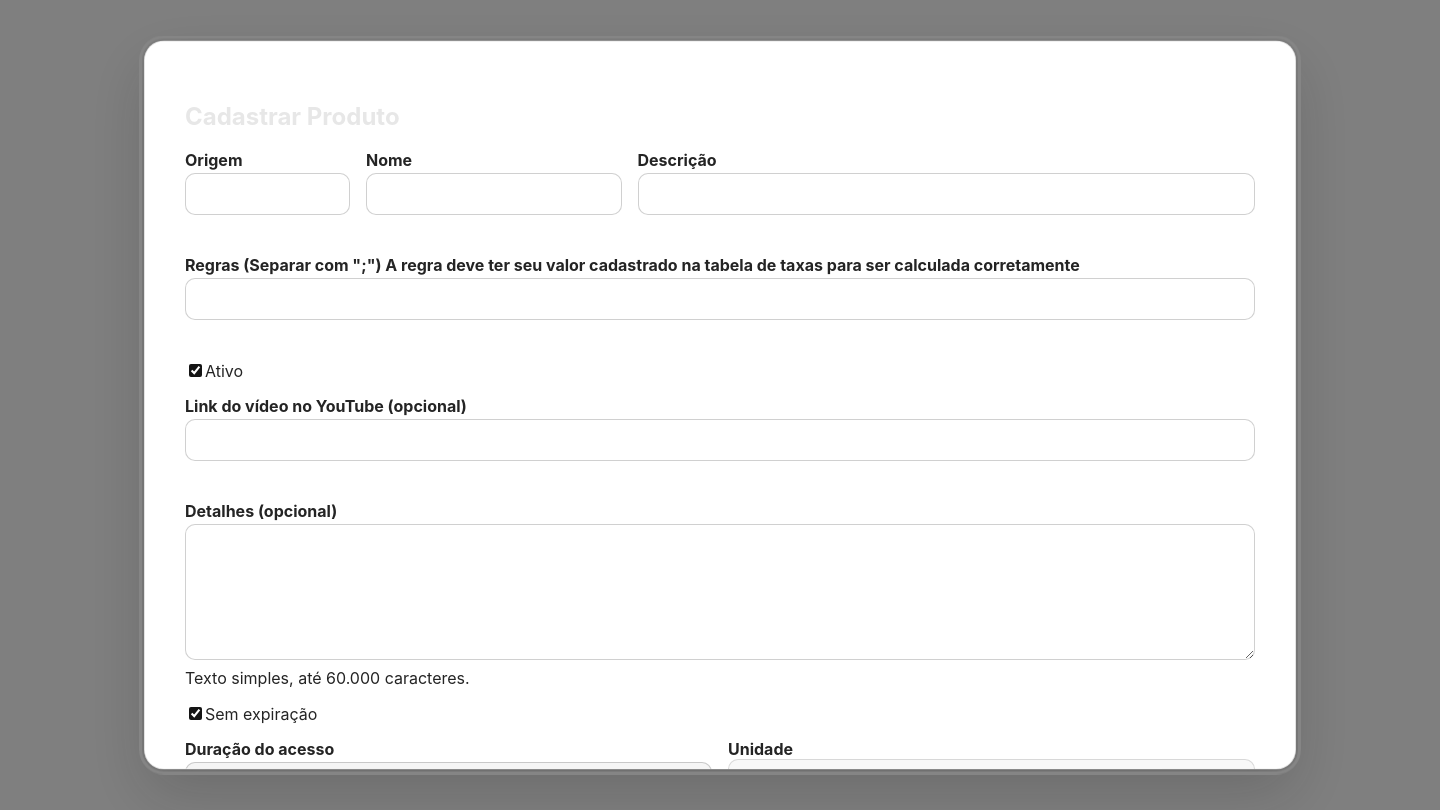
Test: requires a positive integer and duration unit when expiration is enabled
The image size is (1440, 810).
Step 1. Type "ORIGEM" into the field labelled "Origem" → (268, 193), box [185,172,350,214]
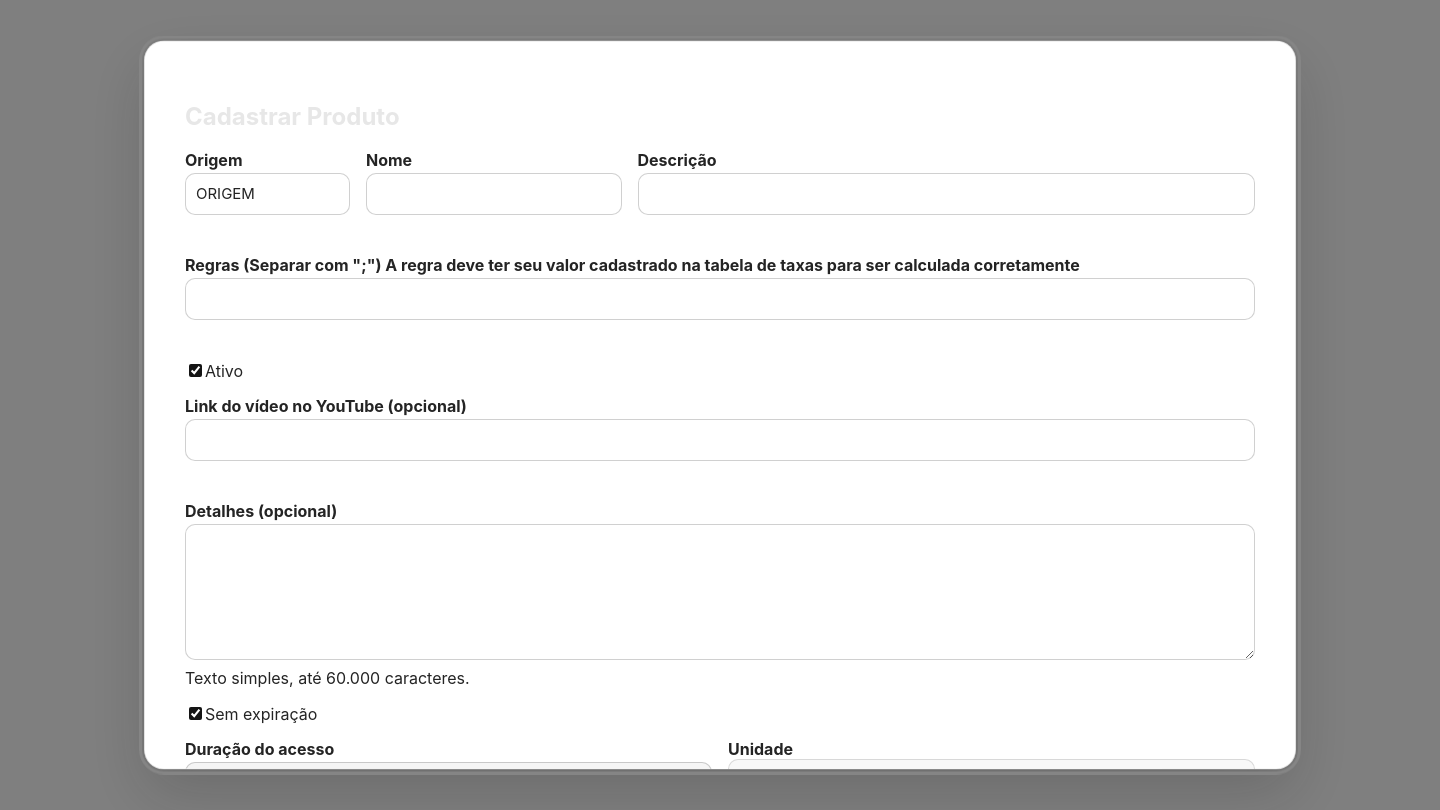
Step 2. Type "Admissão" into the field labelled "Nome" → (494, 193), box [366,172,622,214]
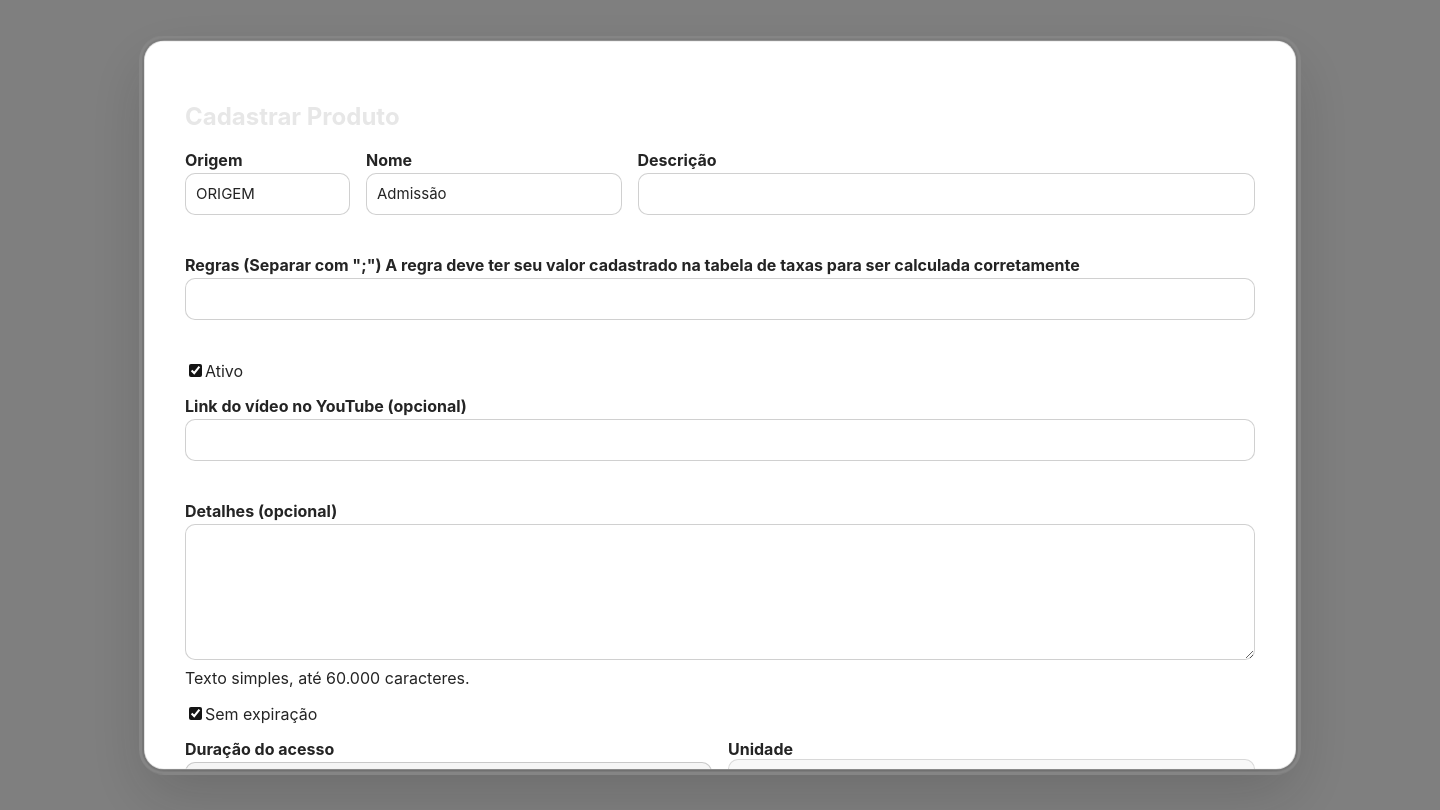
Step 3. Type "Produto de teste" into the field labelled "Descrição" → (946, 193), box [638,172,1255,214]
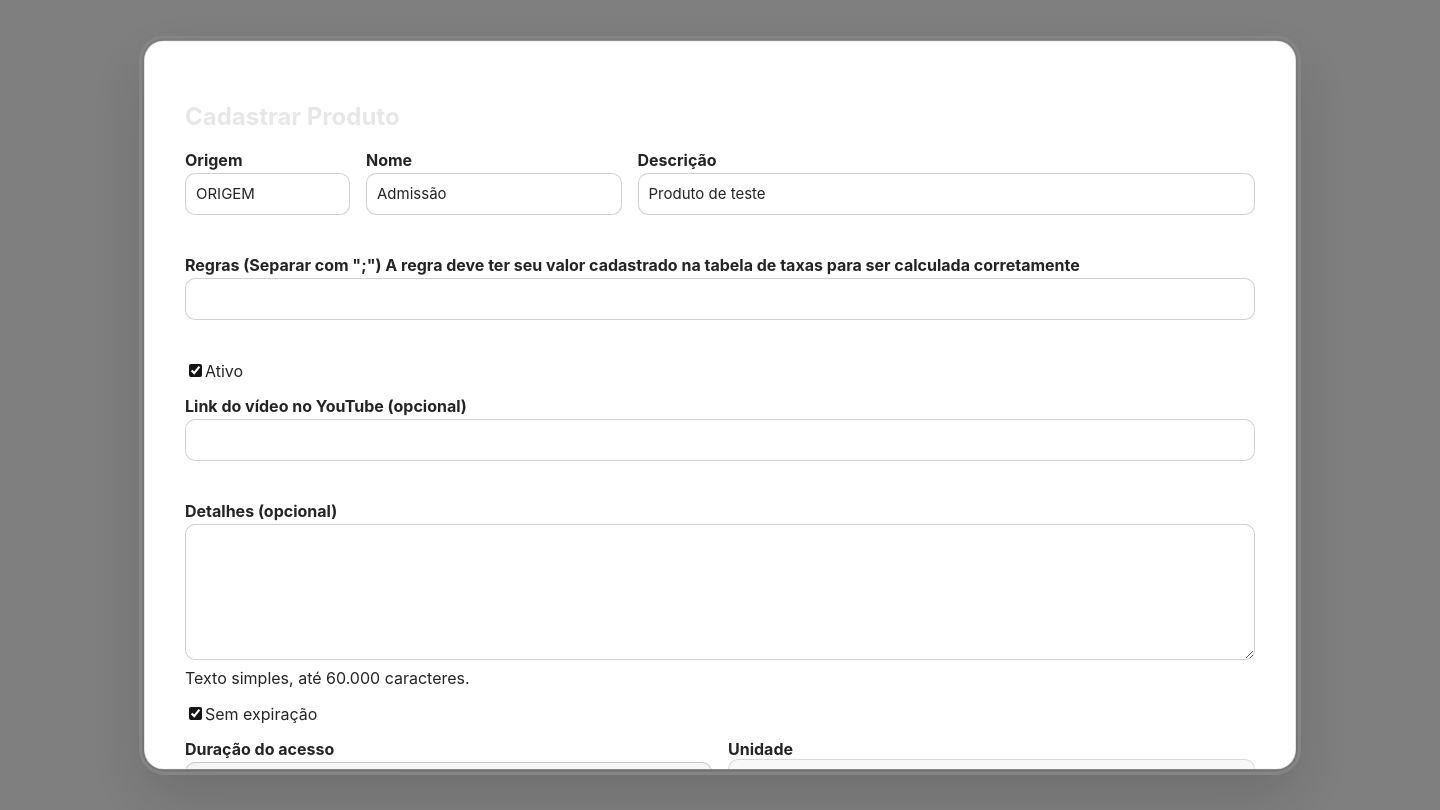
Step 4. Click the checkbox labelled "Sem expiração" → click(196, 713), box [189,706,202,719]
(page scrolled)
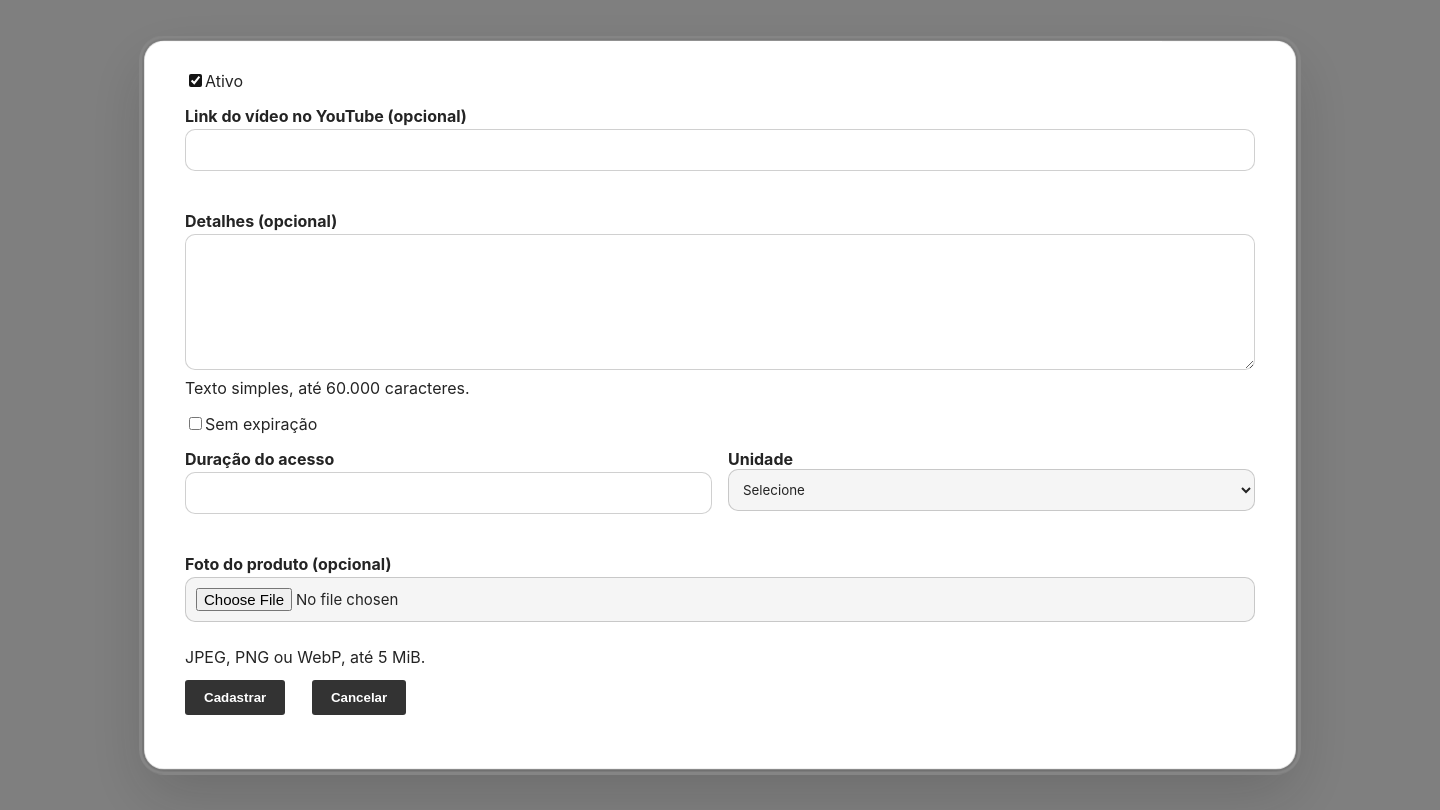
Step 5. Click the button "Cadastrar" → click(235, 698), box [185,681,285,716]
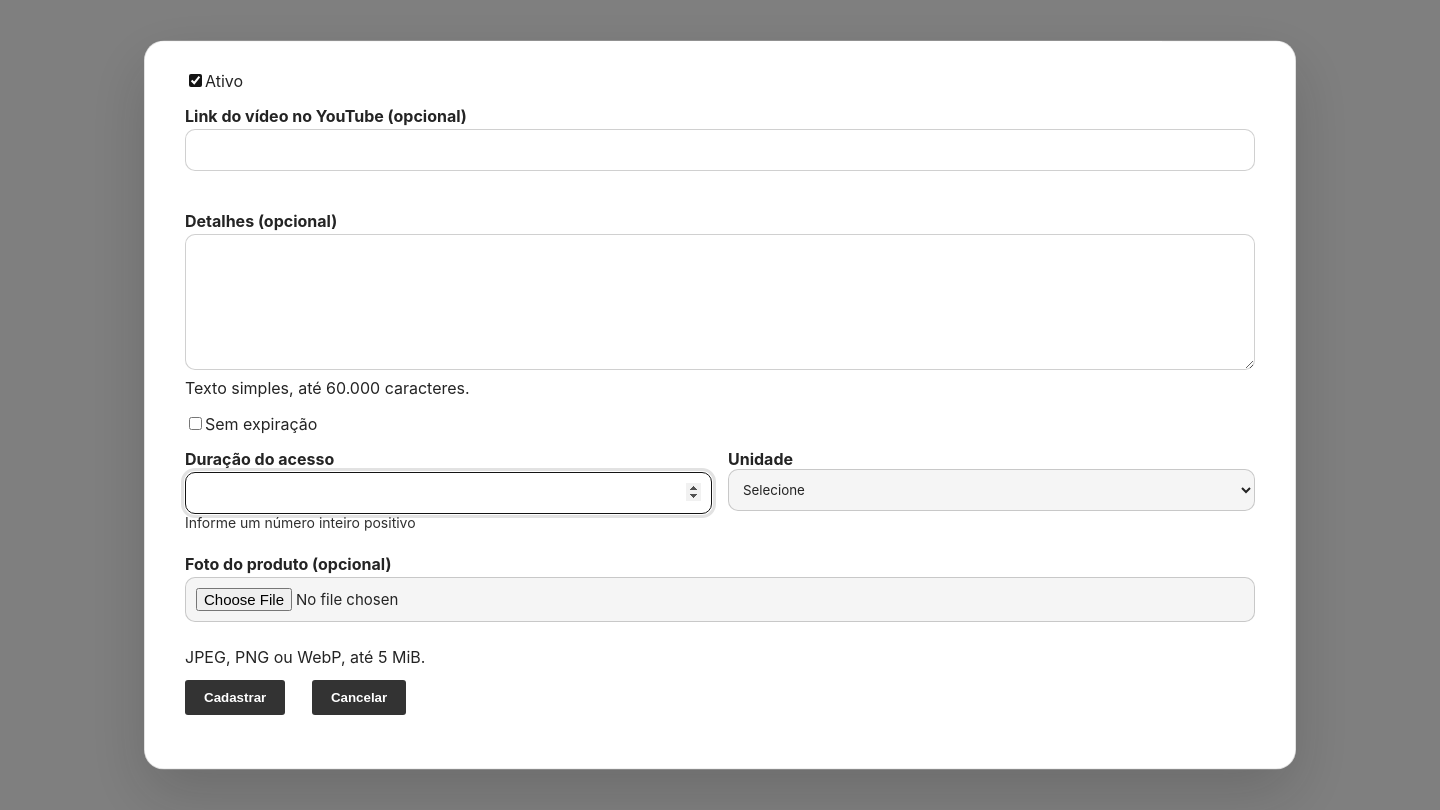
Expected: the text "Selecione uma unidade" is shown, [728,486,882,503]
Result: the text "Informe um número inteiro positivo" is shown at [185,514,416,531]
